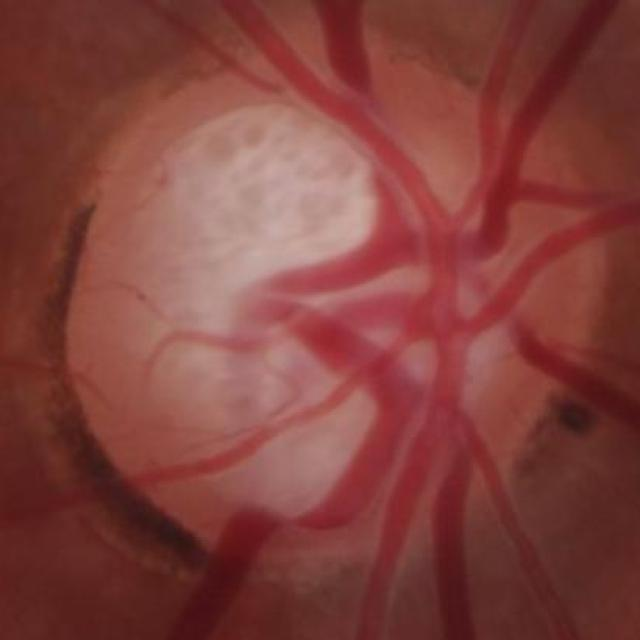OC: (145, 105, 499, 520)
OD: (56, 13, 608, 599)
